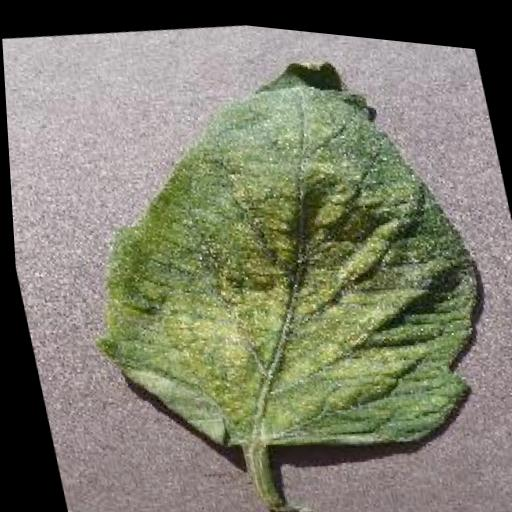Spider Mites: (29, 8, 512, 493)
